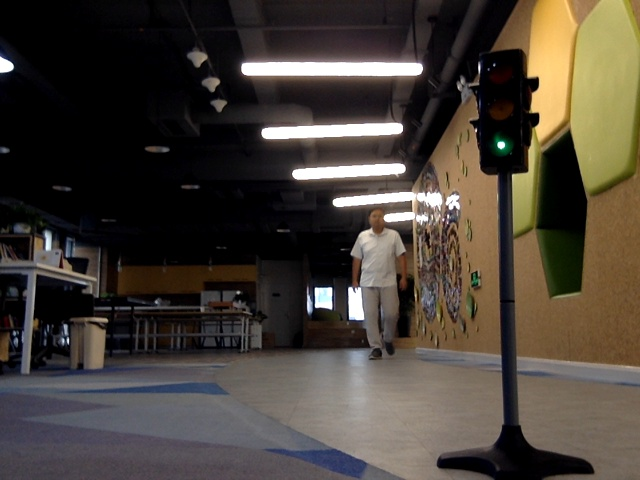green: (482, 56, 519, 164)
